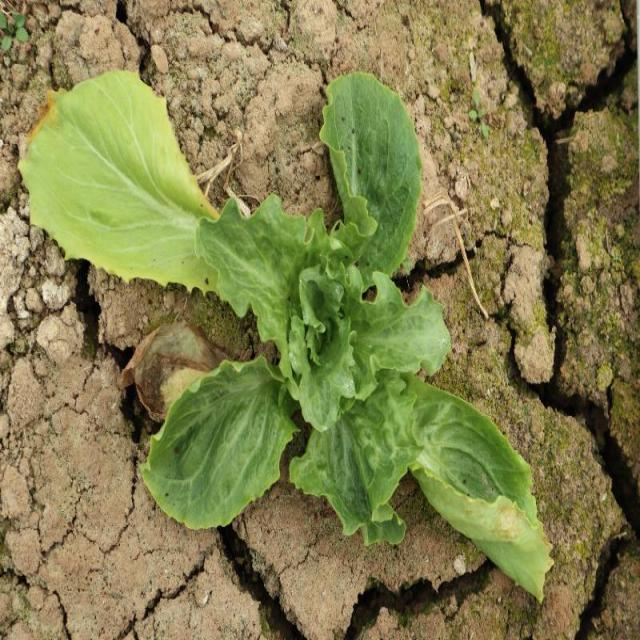crop: (17, 67, 572, 604)
